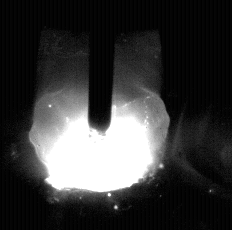arame: (89, 0, 113, 136)
poca: (29, 0, 170, 230)
